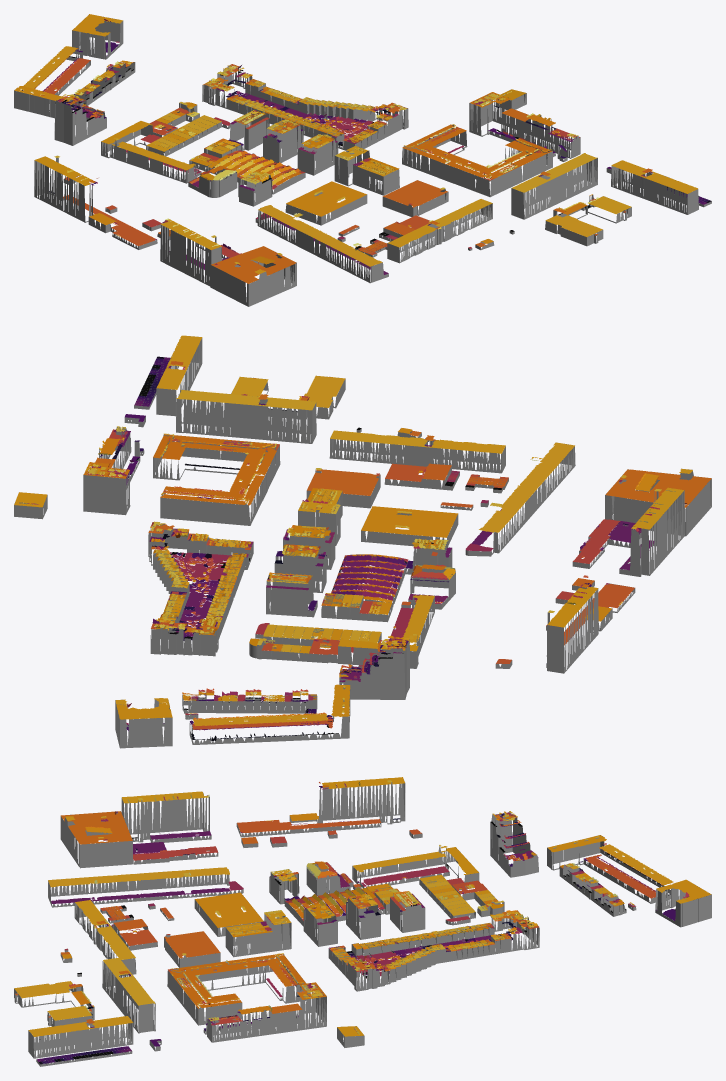
The model's file is voorhof_84000_446000.glb.
3 renders of one model, top to bottom at view 1: azimuth 30°, elevation 25°; view 2: azimuth 150°, elevation 25°; view 3: azimuth 270°, elevation 25°, orthographic. The views are drawn at different scales.
Bounding box in the file's own units: 499 × 40.85 × 584.
